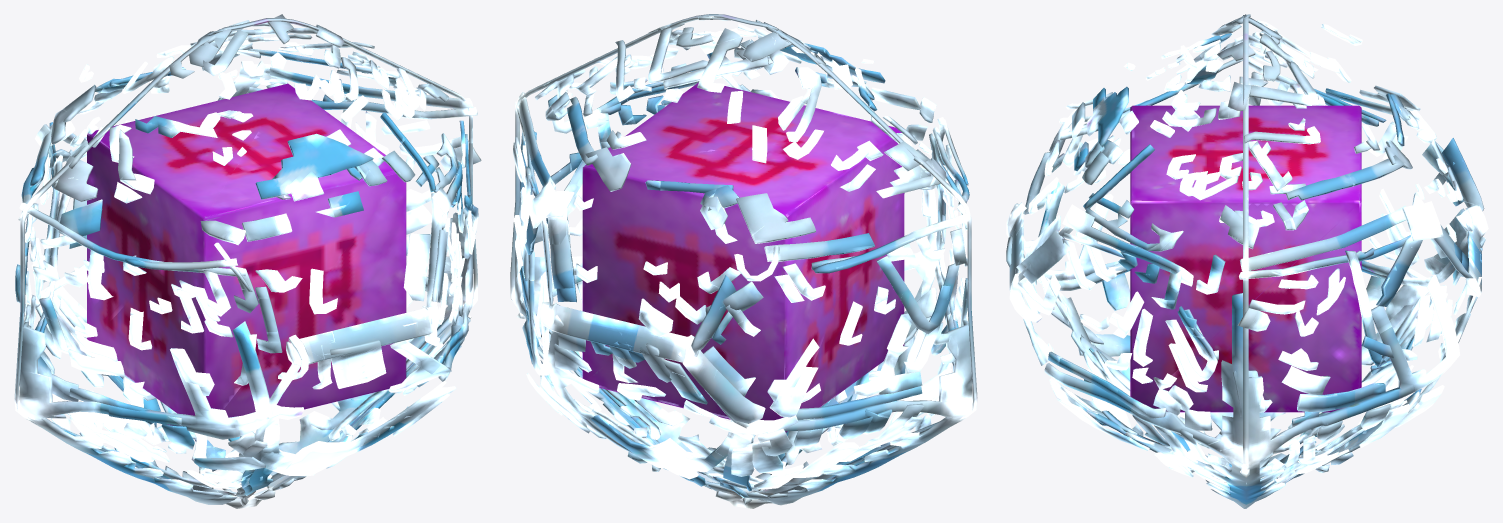
Rendered from エンドクリスタル.glb.
3 views of the same model, side by side, from view 1: azimuth 30°, elevation 25°; view 2: azimuth 150°, elevation 25°; view 3: azimuth 270°, elevation 25° (orthographic). The views are drawn at different scales.
Size of the model in its own units: 1.86 by 1.87 by 1.72.
Materials: 1 (1 with a texture image).
